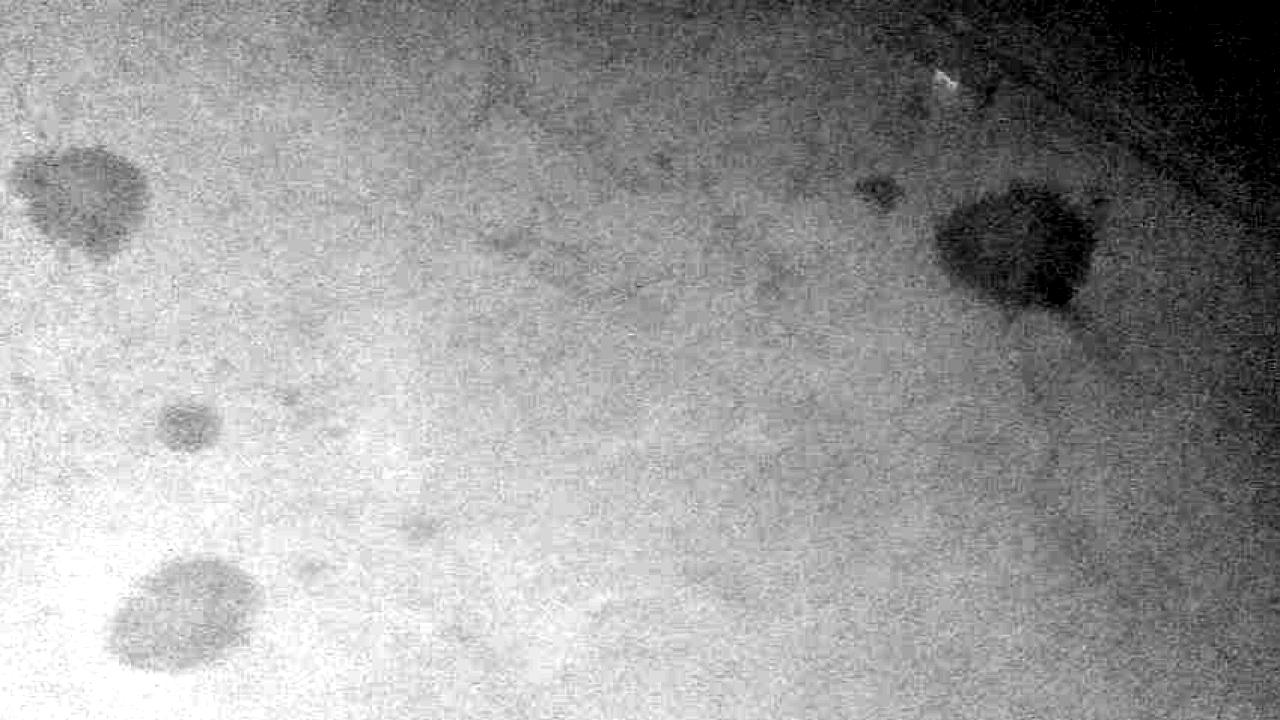drinks Stains: (847, 154, 1103, 321), (0, 51, 164, 295), (89, 552, 268, 686), (107, 390, 251, 486)
